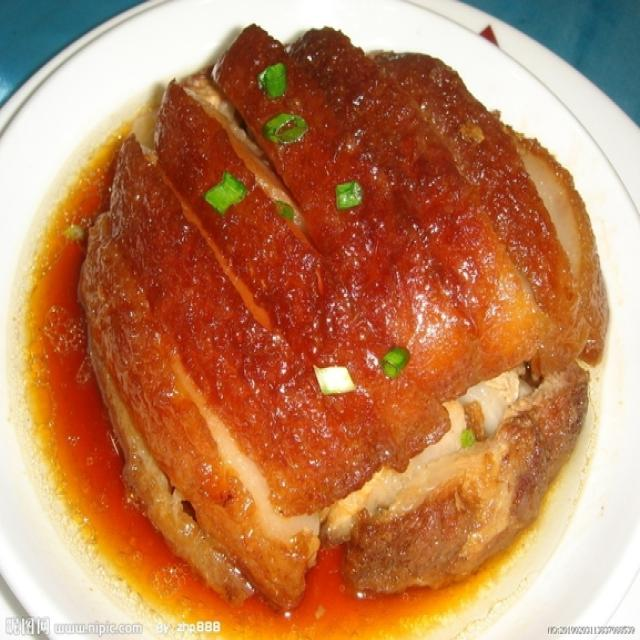牛肉菜式: (71, 28, 613, 594)
